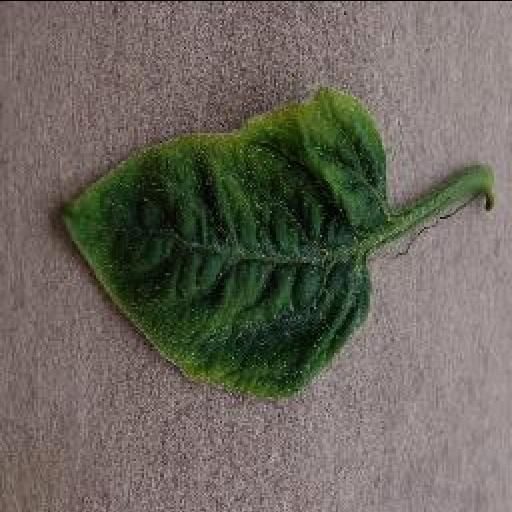disease_tomato: (56, 84, 394, 401)
